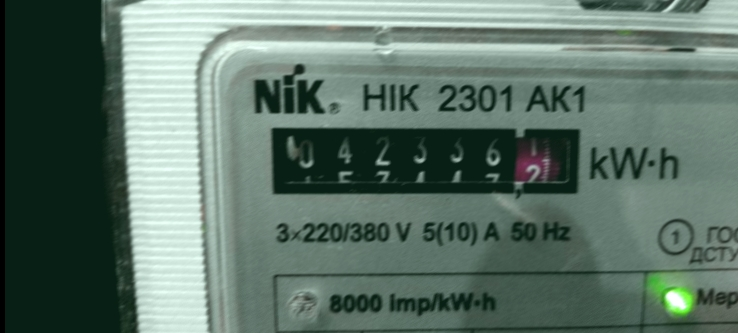0: (296, 136, 315, 169)
1: (526, 131, 539, 158)
2: (372, 133, 394, 167), (523, 162, 540, 184)
3: (409, 132, 428, 164), (448, 132, 466, 164)
4: (336, 132, 354, 164)
6: (483, 134, 503, 168)
screen: (258, 113, 594, 206)
